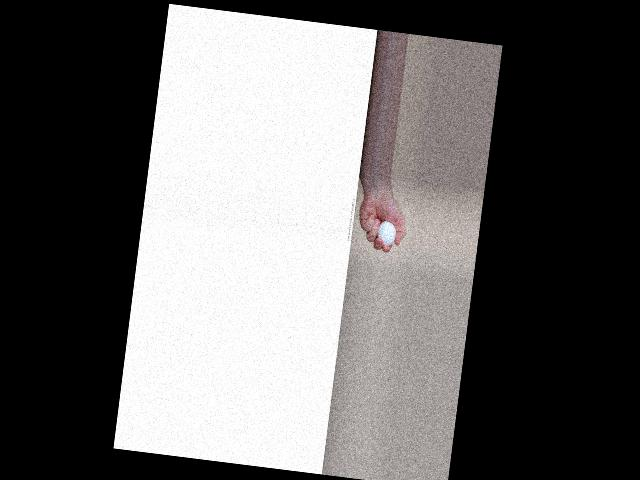egg: (376, 219, 397, 246)
